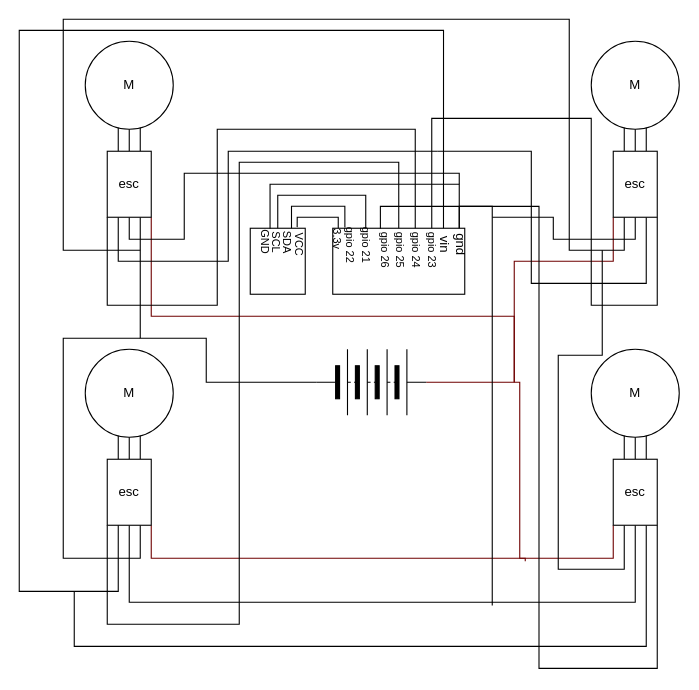
Image size: 699x690. Some labels were removed from this diagram. Here are the shapes that lost their labels. From the top down, the box of each, then its label:
(249, 227, 305, 294): mpu6050
(332, 227, 465, 294): esp32
